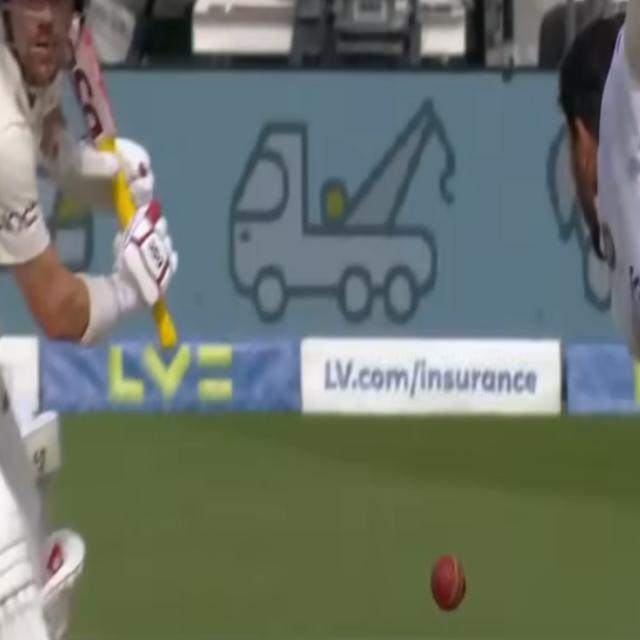ball: (428, 549, 473, 616)
